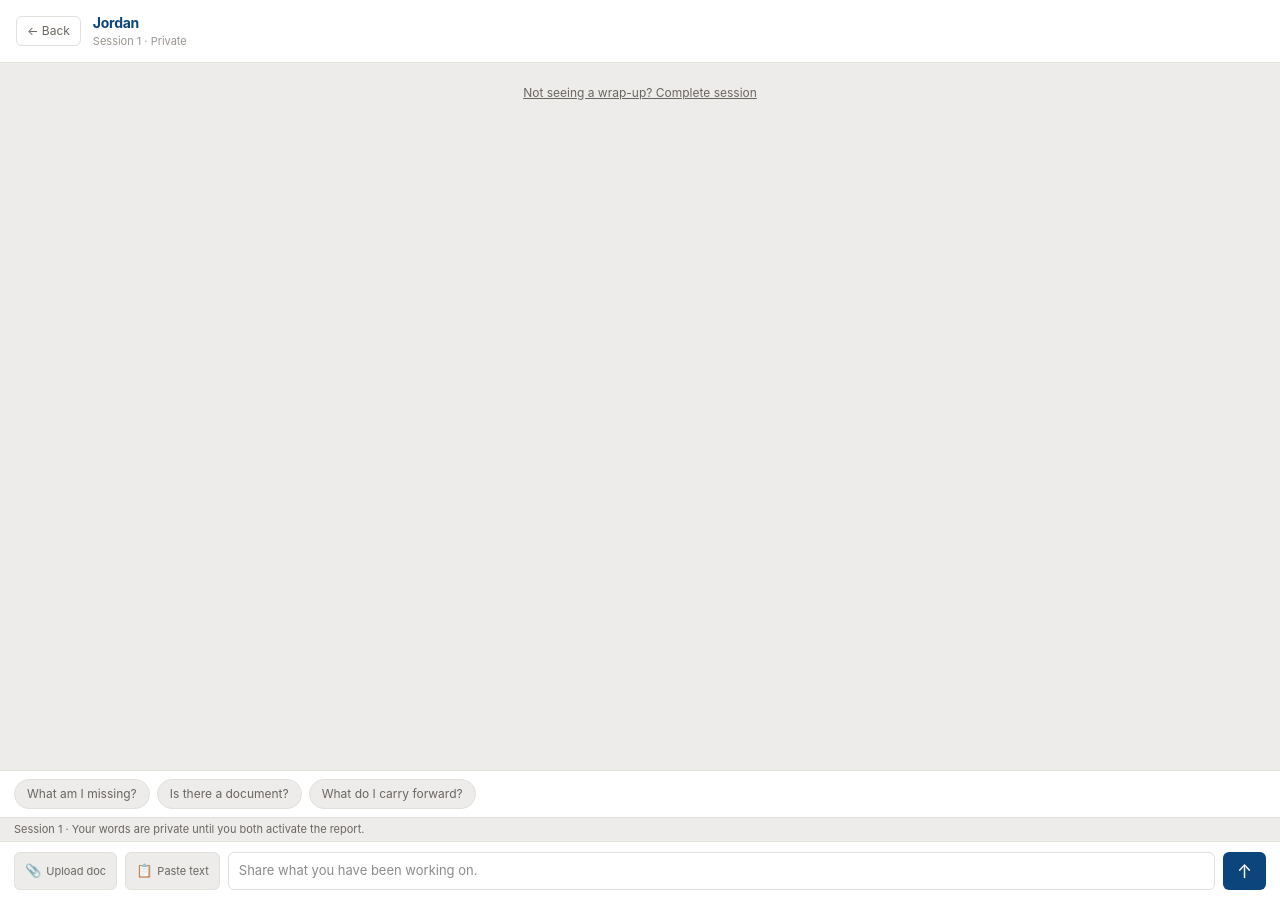
Test: finishing a check-in the engine already closed › shows the session as finished rather than leaving the confirm panel up
Click the button "Not seeing a wrap-up? Complete session" at (640, 92), box [523, 84, 757, 102]
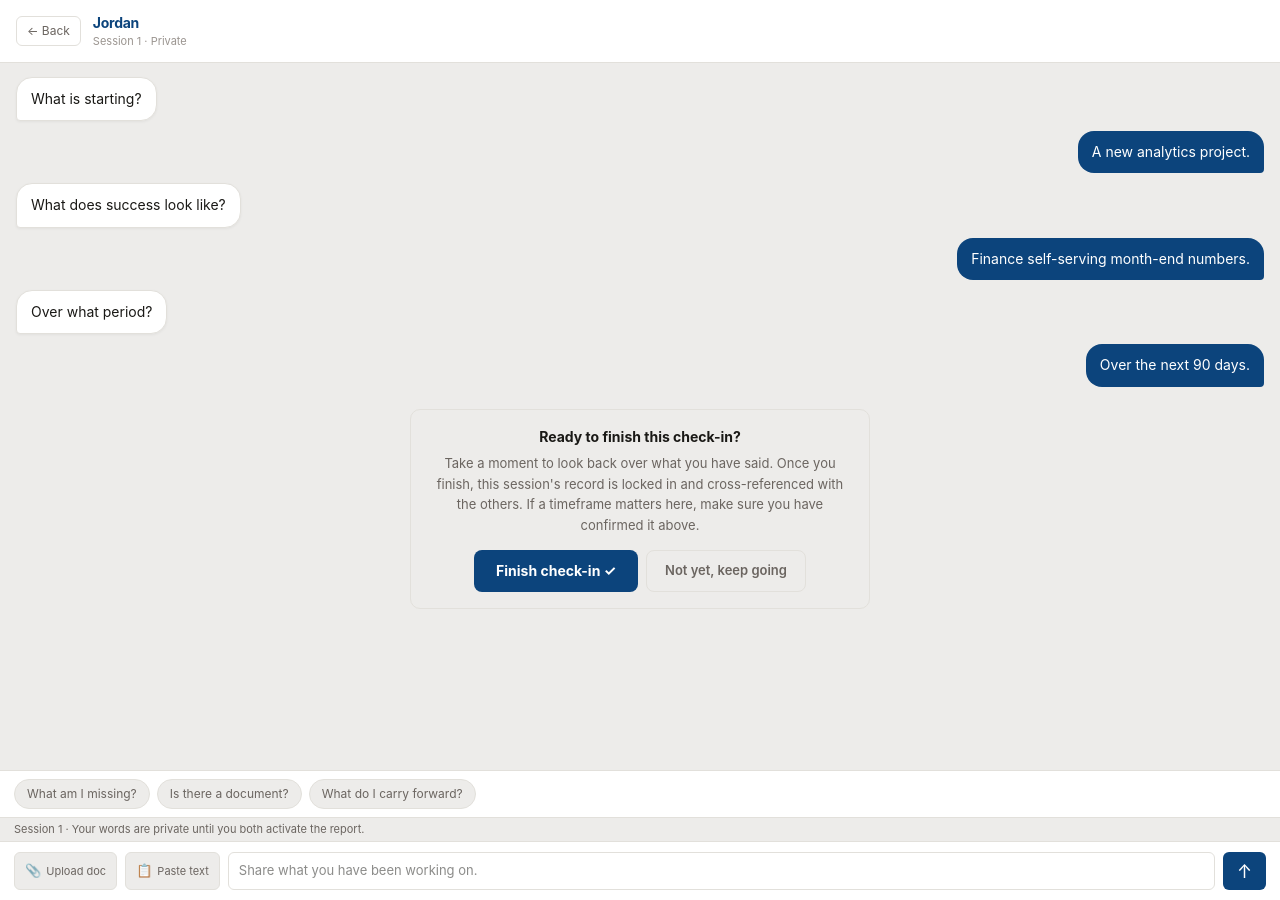
Click the button "Finish check-in ✓" at (556, 571), box [474, 550, 638, 592]
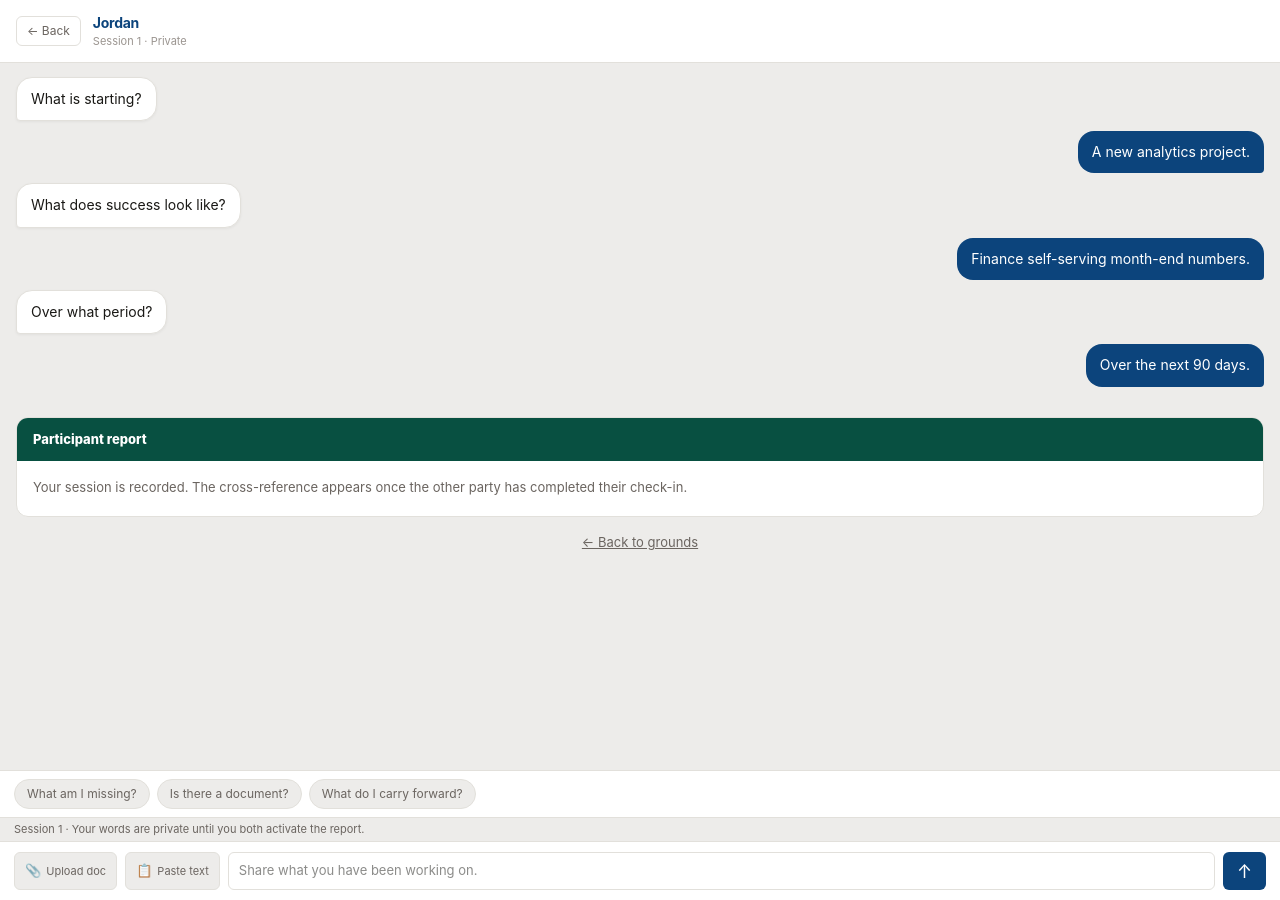
Expected: the button "Finish check-in" is gone
